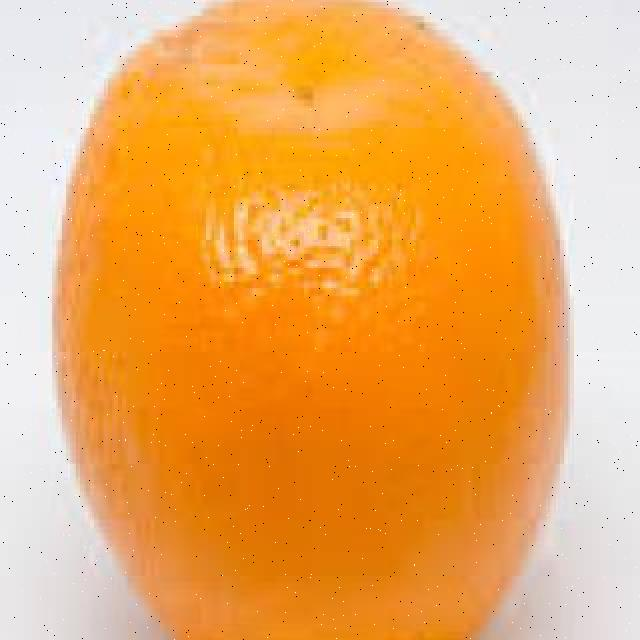orange: (50, 0, 572, 640)
